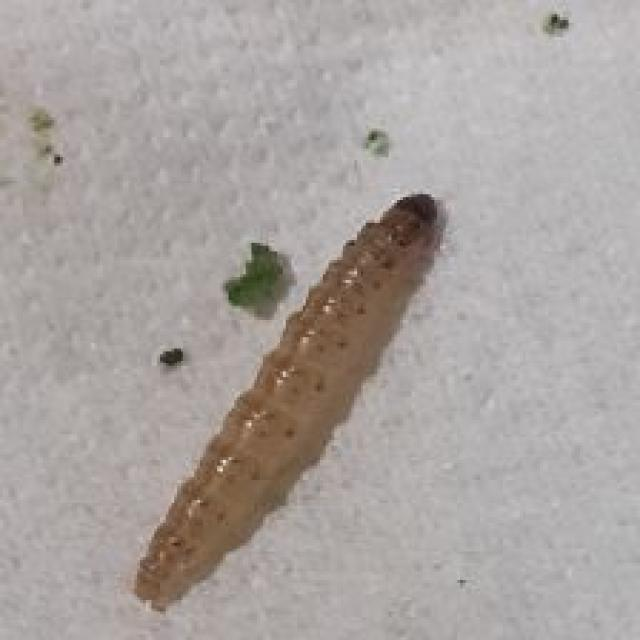white mucus: (92, 176, 488, 609)
